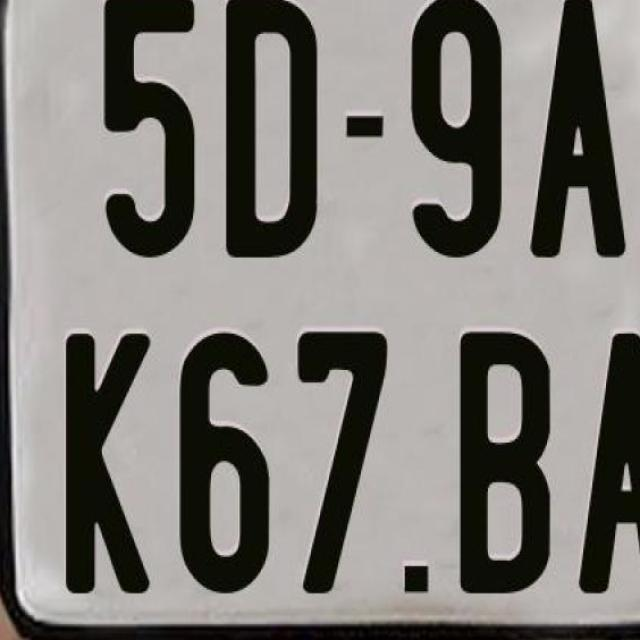license-plate: (10, 9, 640, 602)
